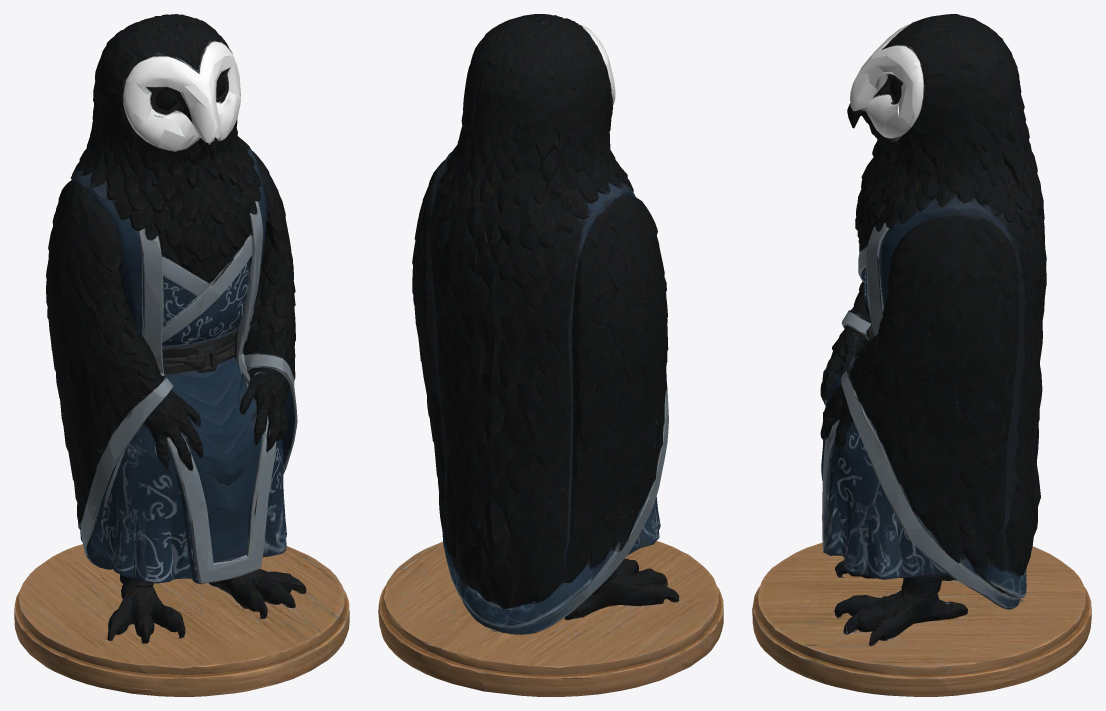
File: wanshitong.glb
3 views of the same model, side by side, from view 1: azimuth 30°, elevation 25°; view 2: azimuth 150°, elevation 25°; view 3: azimuth 270°, elevation 25° (orthographic). The views are drawn at different scales.
Visible parts, largest first — view 1: Mesh_0; view 2: Mesh_0; view 3: Mesh_0.
Boxes of the visible parts, x1,y1,x2,y2 form: Mesh_0: (14,14,349,696); Mesh_0: (378,14,723,696); Mesh_0: (752,14,1091,696).
Bounding box in the file's own units: 0.9711 × 1.9 × 0.9725.
Materials: 1 (1 with a texture image).
